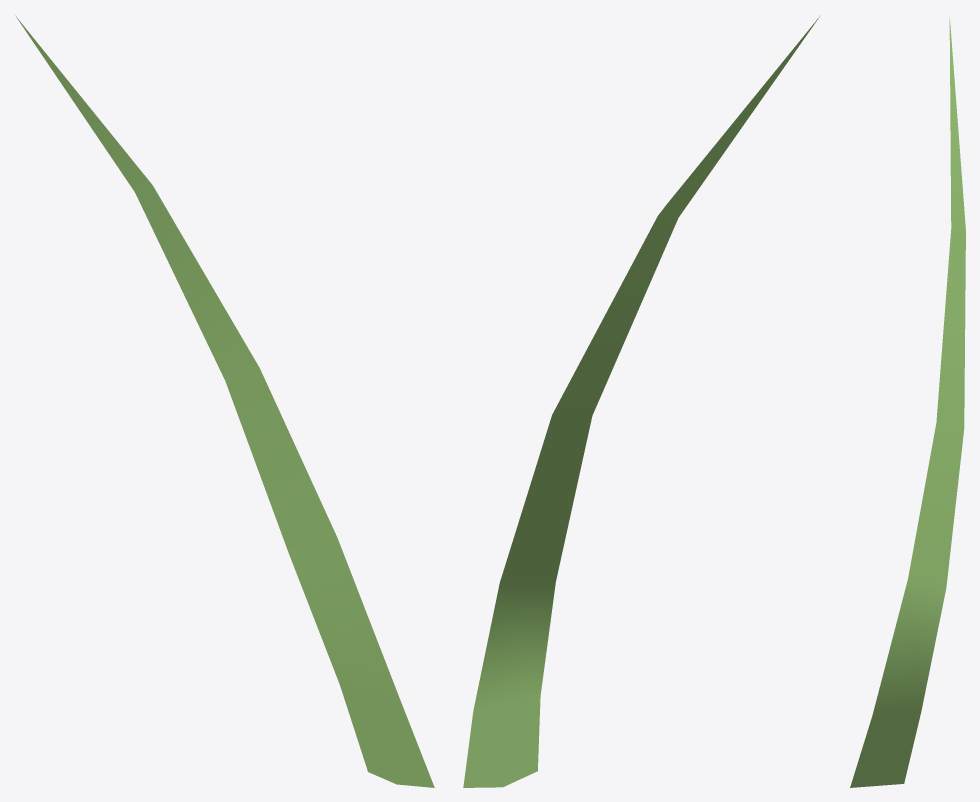
Rendered from grassBlade.glb.
3 views of the same model, side by side, from view 1: azimuth 30°, elevation 25°; view 2: azimuth 150°, elevation 25°; view 3: azimuth 270°, elevation 25° (orthographic). The views are drawn at different scales.
Visible parts, largest first — view 1: brush_Spikes_g0_b0; view 2: brush_Spikes_g0_b0; view 3: brush_Spikes_g0_b0.
Part boxes in pixels (<box>): brush_Spikes_g0_b0: <box>15,15,434,787</box>; brush_Spikes_g0_b0: <box>463,15,820,787</box>; brush_Spikes_g0_b0: <box>850,17,965,787</box>.
Bounding box in the file's own units: 0.4018 × 0.88 × 0.1444.
